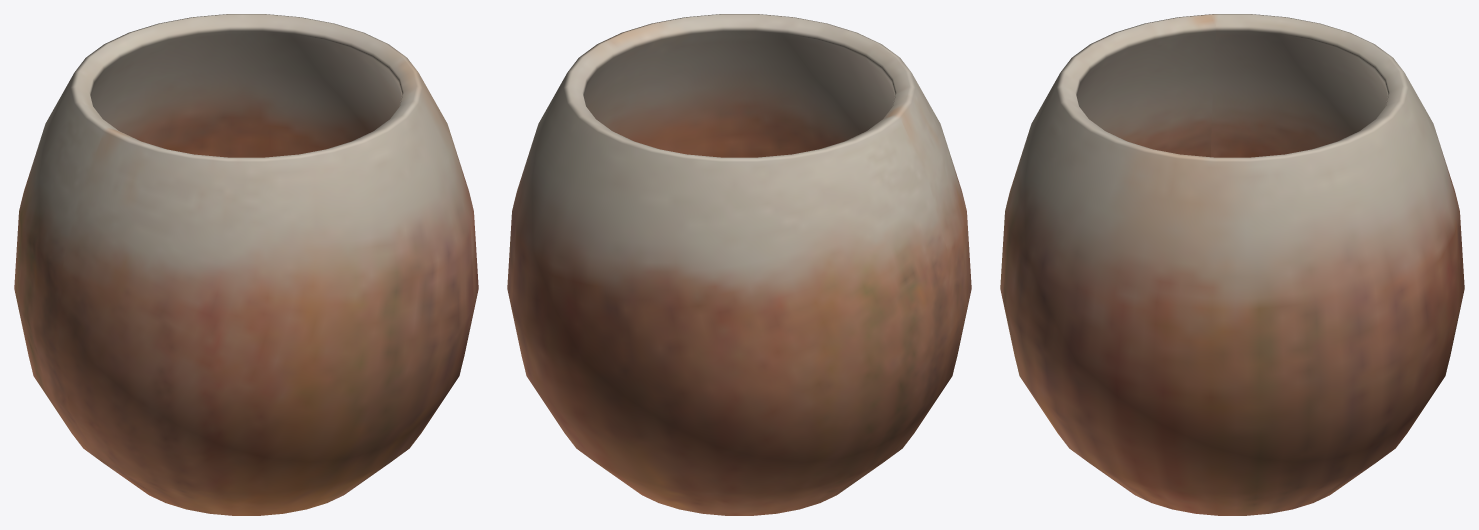
File: SM_ClayVases_04.fbx
The picture shows the model from 3 angles, left to right: view 1: azimuth 30°, elevation 25°; view 2: azimuth 150°, elevation 25°; view 3: azimuth 270°, elevation 25°; orthographic projection.
Visible parts, largest first — view 1: SM_ClayVases_04_LOD0; view 2: SM_ClayVases_04_LOD0; view 3: SM_ClayVases_04_LOD0.
Part boxes in pixels (x1,y1,x2,y2): SM_ClayVases_04_LOD0: (14, 14, 478, 515); SM_ClayVases_04_LOD0: (507, 14, 971, 515); SM_ClayVases_04_LOD0: (1000, 14, 1464, 515).
Bounding box in the file's own units: 19.87 × 19.98 × 18.88.
Materials: 1 (1 with a texture image).
